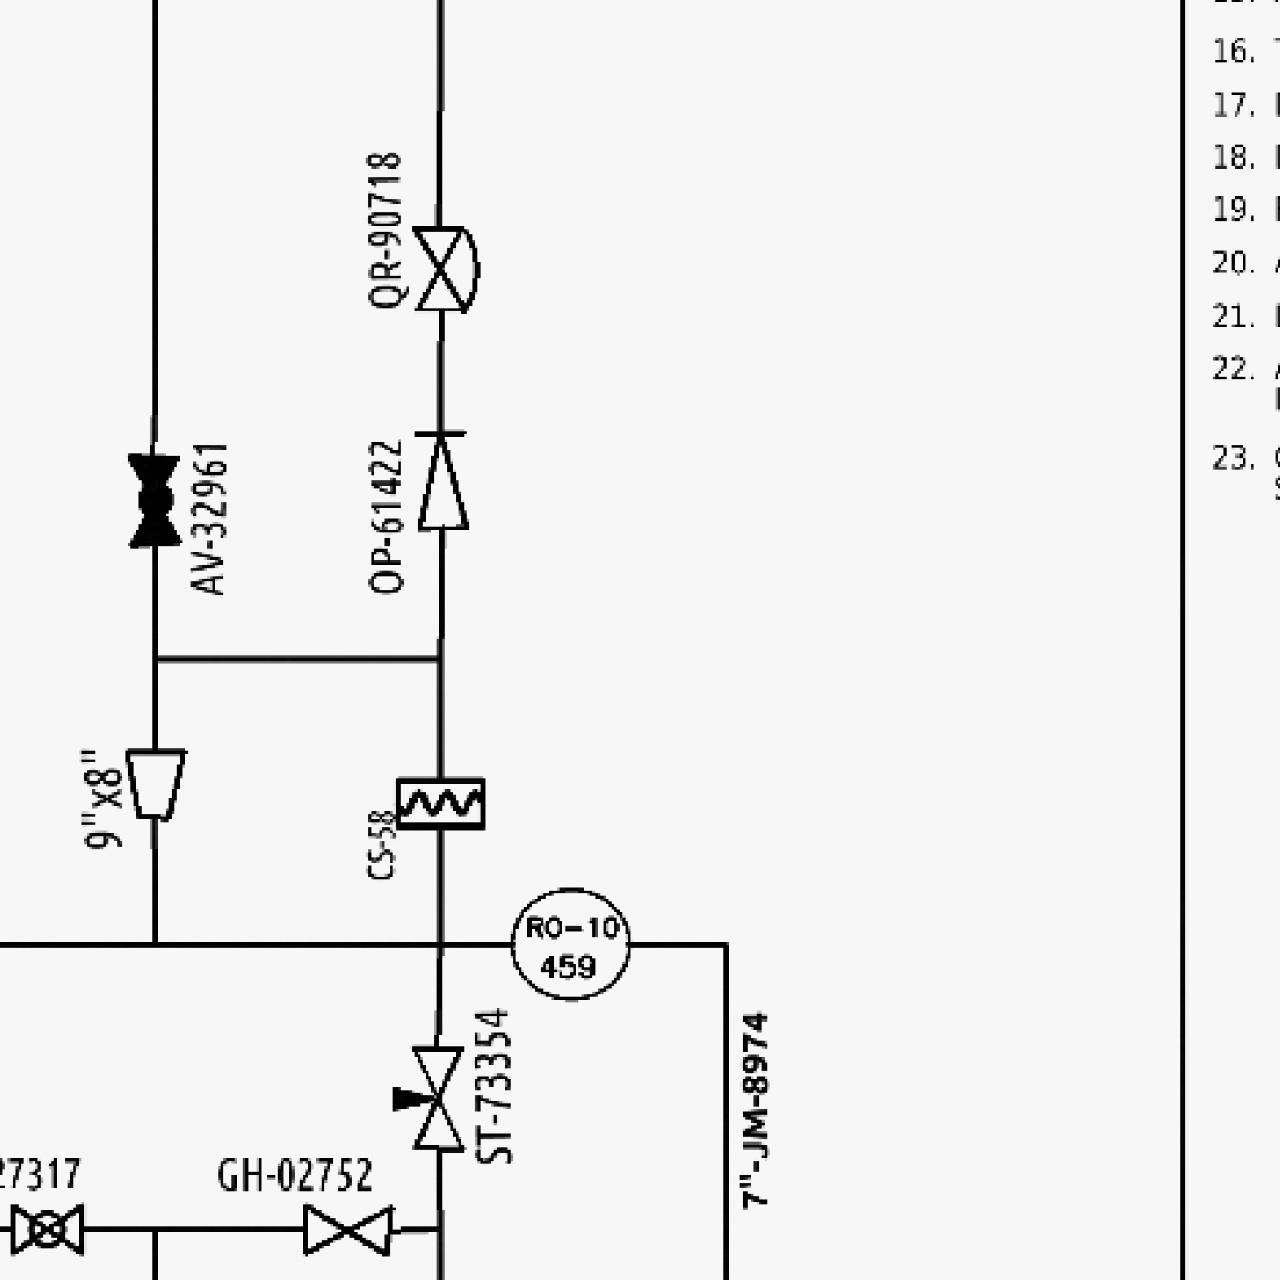Control-Panel: (505, 878, 635, 1008)
